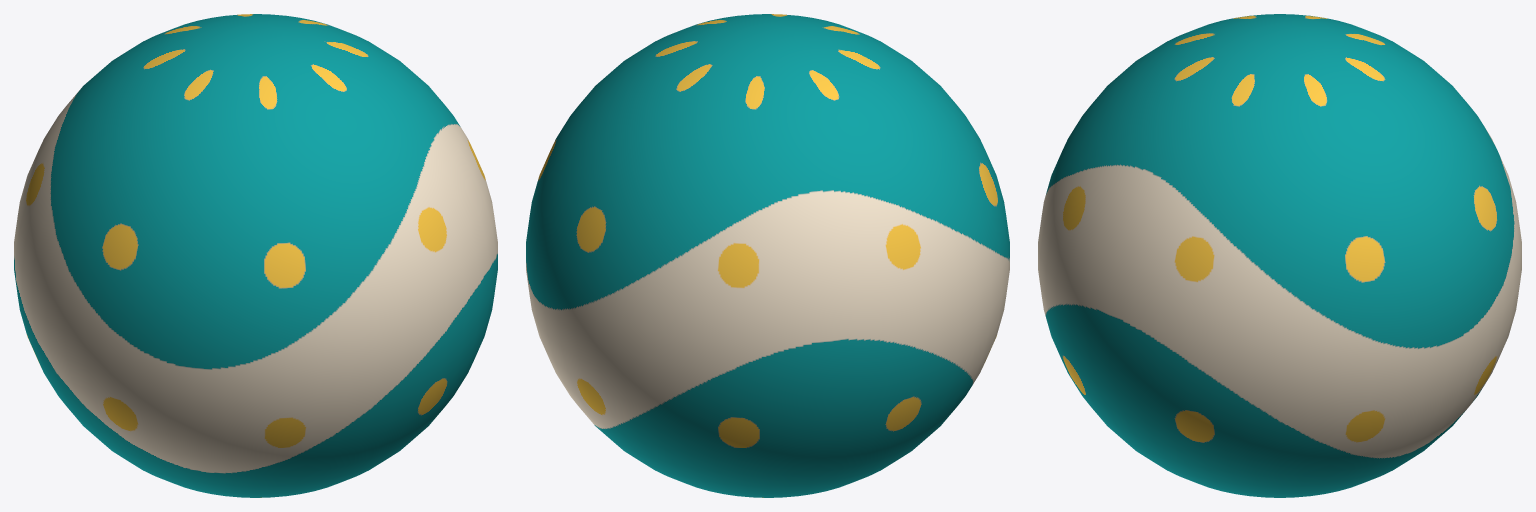
File: ball_c.glb
The picture shows the model from 3 angles, left to right: view 1: azimuth 30°, elevation 25°; view 2: azimuth 150°, elevation 25°; view 3: azimuth 270°, elevation 25°; orthographic projection.
Parts seen in each view (by area): view 1: PaintedSphere; view 2: PaintedSphere; view 3: PaintedSphere.
Boxes of the visible parts, <box> form: PaintedSphere: <box>14,14,497,497</box>; PaintedSphere: <box>526,14,1009,497</box>; PaintedSphere: <box>1038,14,1521,497</box>.
Size of the model in its own units: 2 by 2 by 2.
1 material, 1 textured.
